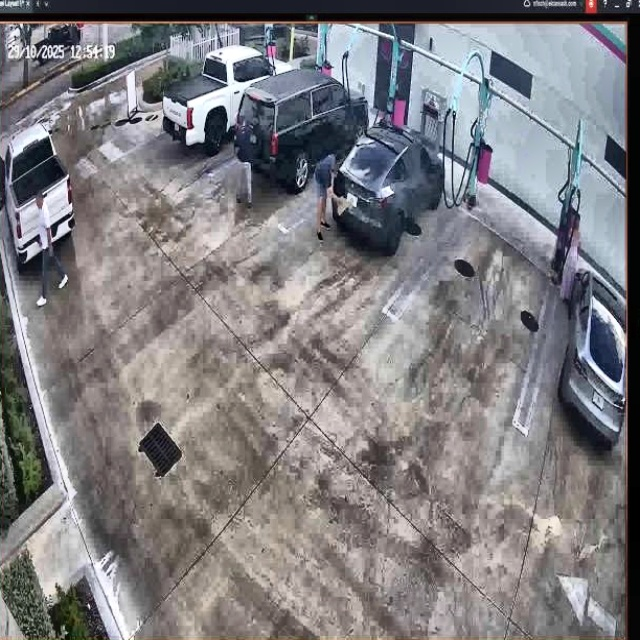Car: (238, 71, 369, 192), (335, 122, 444, 258), (165, 50, 293, 156)
